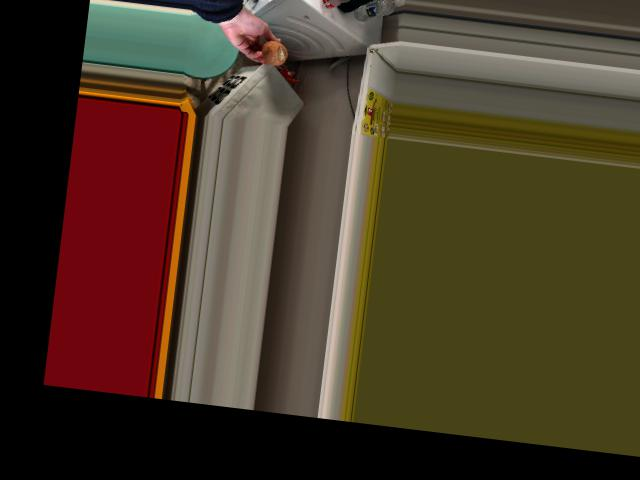sweet_potato: (257, 39, 288, 64)
